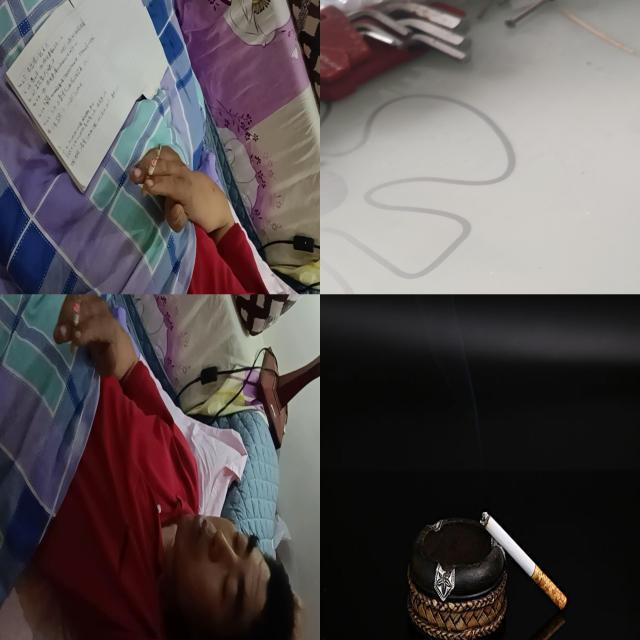smoking: (480, 508, 568, 616), (140, 143, 162, 198), (70, 302, 80, 356)
